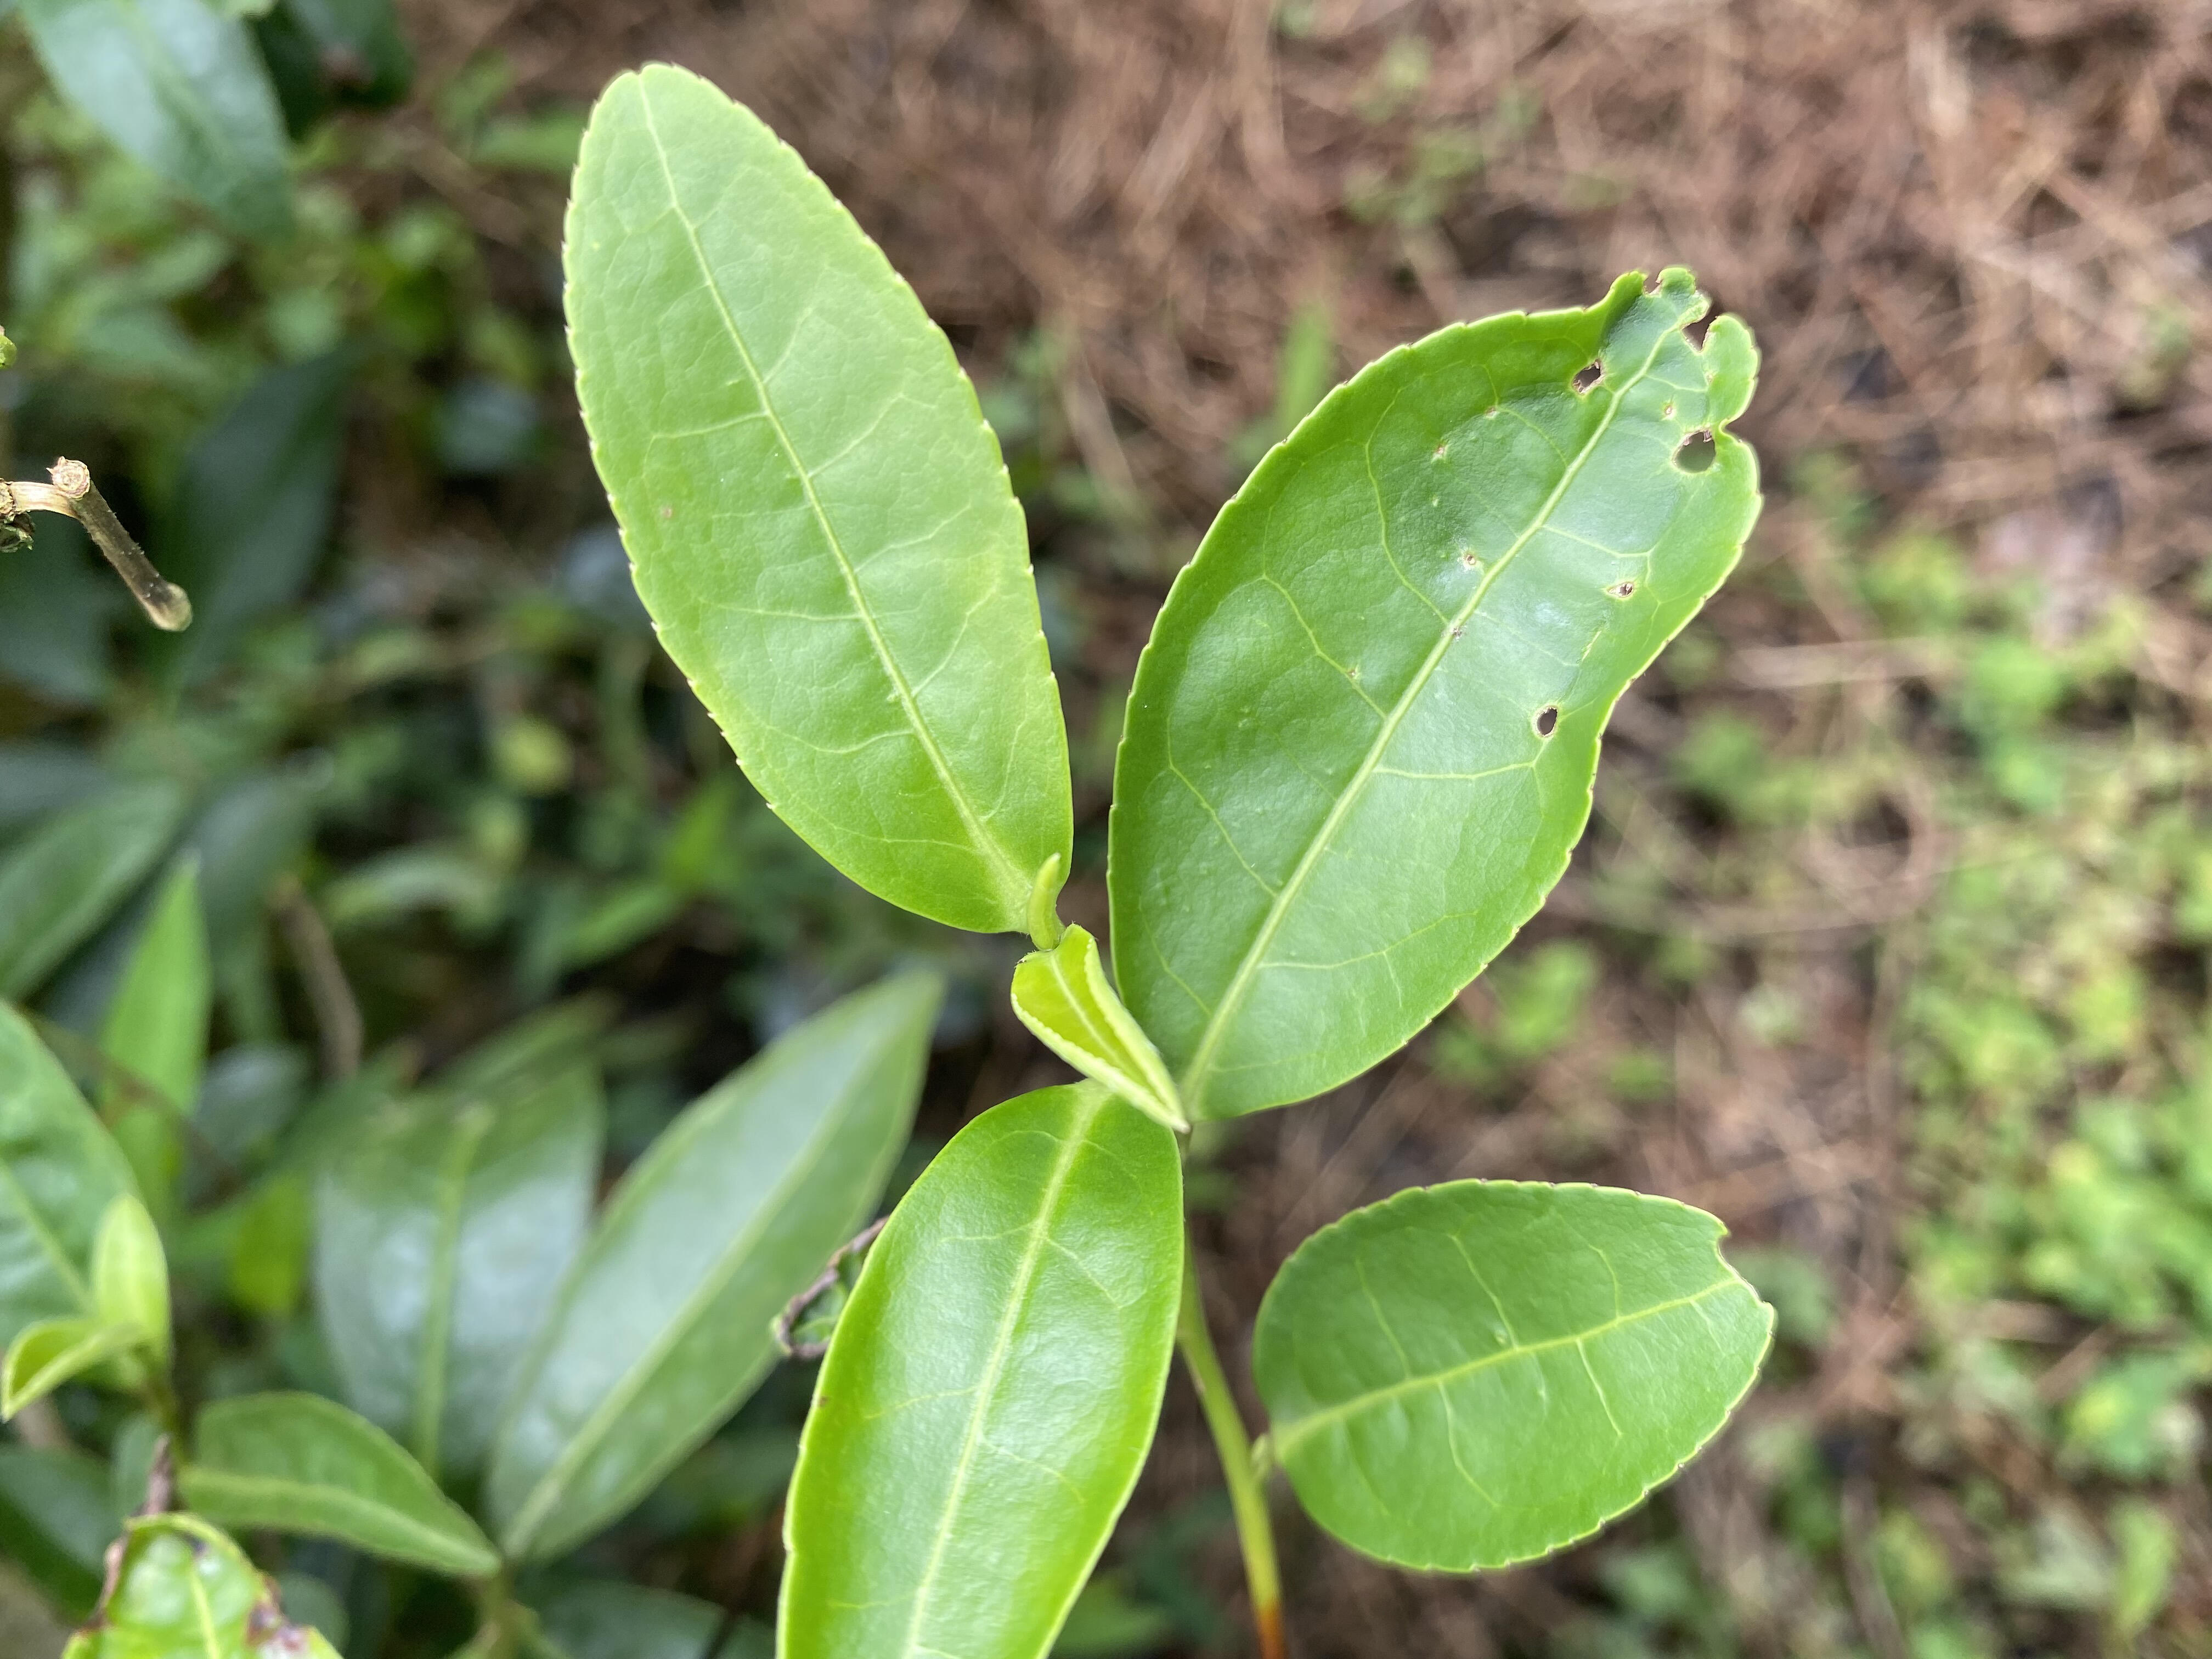chihuo_high: (1106, 263, 1766, 1124)
chihuo_low: (1249, 1173, 1778, 1579)
healthy: (556, 58, 1075, 939), (773, 1082, 1188, 1659)
tanju_high: (52, 1436, 345, 1657)
